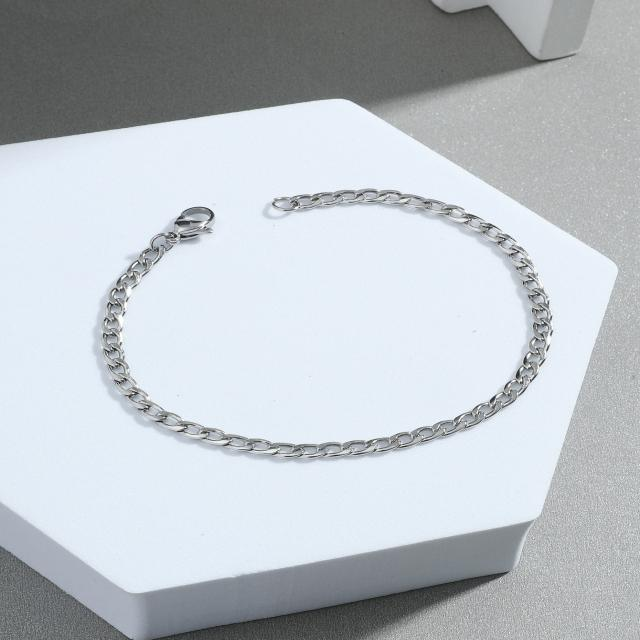bracelet: (68, 121, 620, 493)
